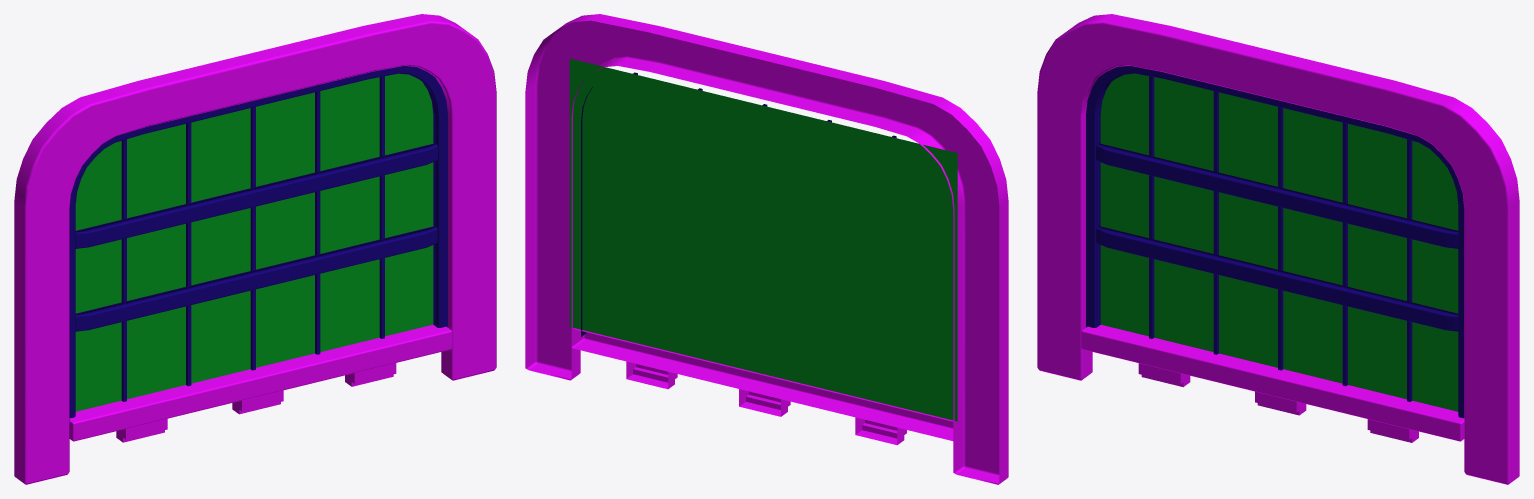
File: Fenetre_Grande_4x4x0_01.FBX
3 views of the same model, side by side, from view 1: azimuth 30°, elevation 25°; view 2: azimuth 150°, elevation 25°; view 3: azimuth 330°, elevation 25° (orthographic).
Parts seen in each view (by area): view 1: Fenetre_Grande_4x4x0_01; view 2: Fenetre_Grande_4x4x0_01; view 3: Fenetre_Grande_4x4x0_01.
Part boxes in pixels (x1=…): Fenetre_Grande_4x4x0_01: x1=14, y1=14, x2=496, y2=484; Fenetre_Grande_4x4x0_01: x1=525, y1=14, x2=1008, y2=484; Fenetre_Grande_4x4x0_01: x1=1037, y1=14, x2=1519, y2=484.
Bounding box in the file's own units: 298 × 221 × 13.37.
